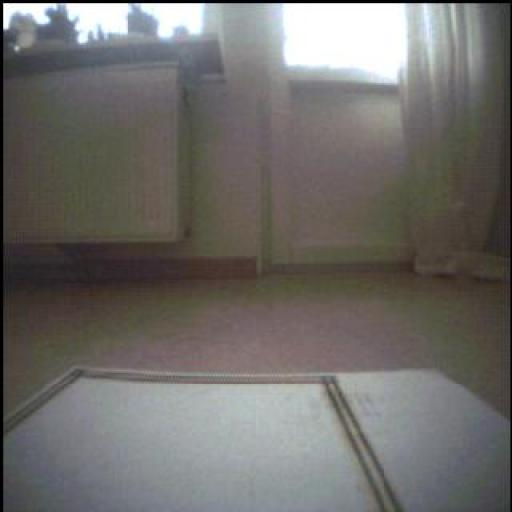Pad: (1, 372, 511, 507)
